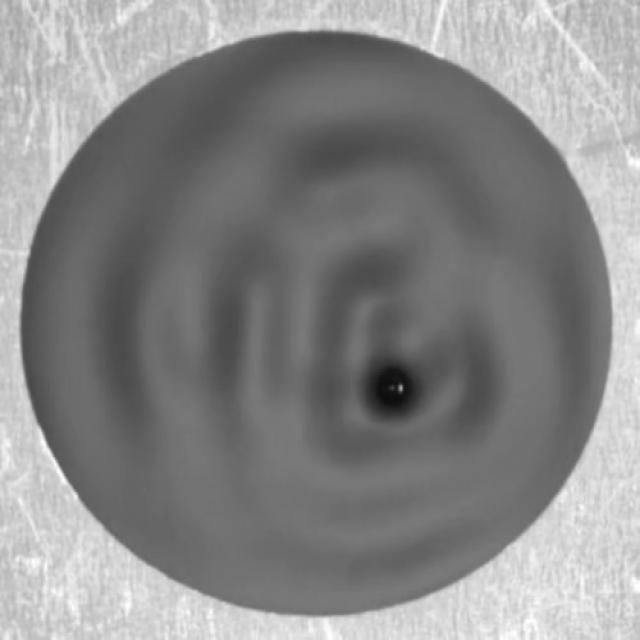droplet: (373, 365, 417, 414)
